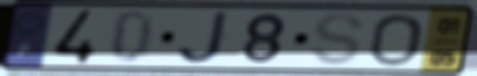0: (109, 9, 158, 66)
4: (50, 7, 100, 66)
8: (239, 12, 289, 67)
J: (174, 10, 233, 67)
O: (367, 12, 425, 68)
S: (308, 11, 367, 68)
